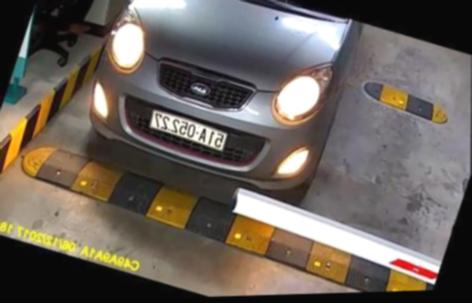License_Plate: (137, 110, 235, 161)
